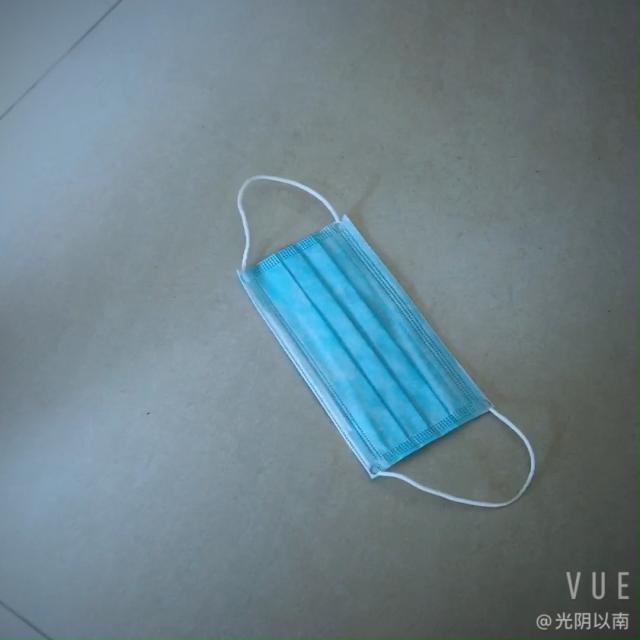face mask: (250, 213, 490, 484)
